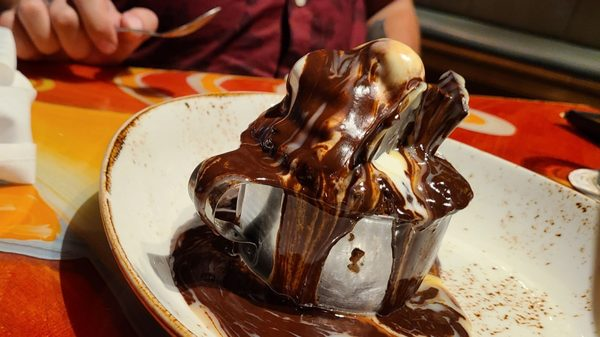salad: (568, 169, 600, 201)
